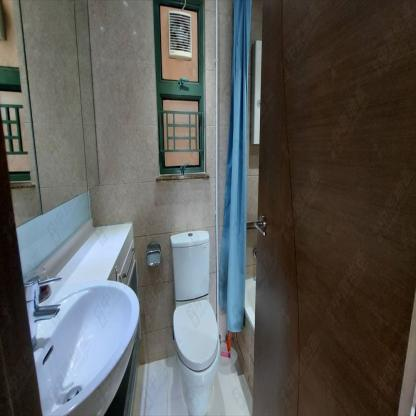Faucet: (26, 274, 67, 328)
Toilet: (171, 229, 220, 413)
Toilet Sink: (30, 279, 139, 415)
